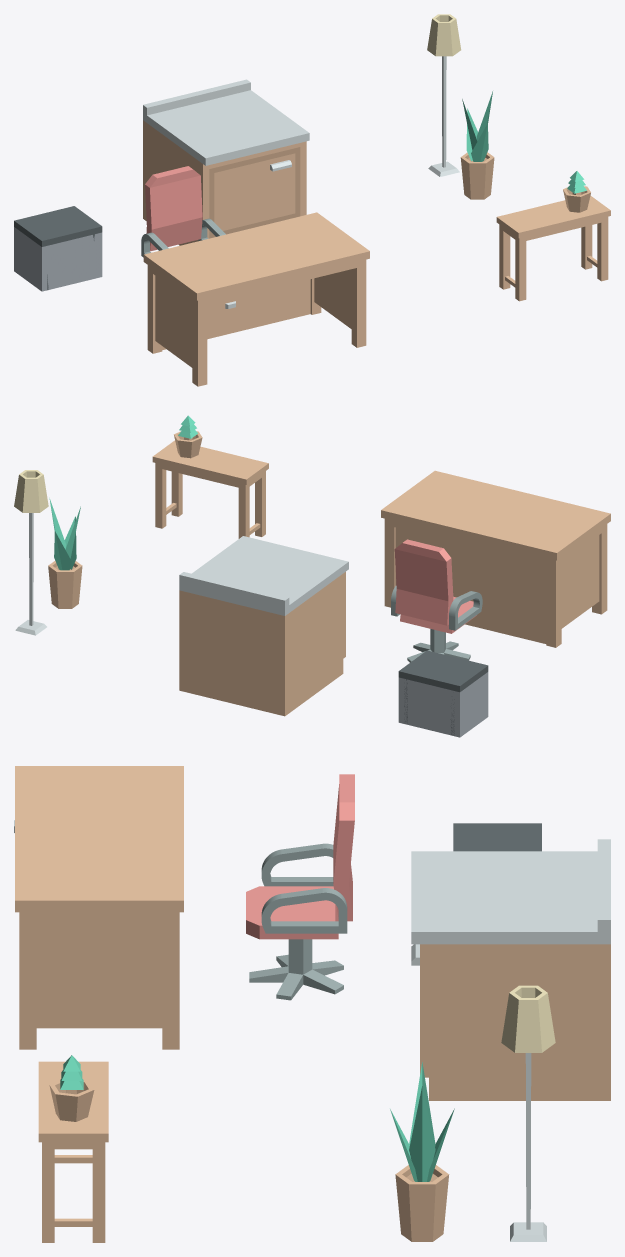
The picture shows the model from 3 angles, top to bottom: view 1: azimuth 30°, elevation 25°; view 2: azimuth 150°, elevation 25°; view 3: azimuth 270°, elevation 25°; orthographic projection. The views are drawn at different scales.
Parts seen in each view (by area): view 1: desk_blue__desk(Clone), cabinet_blue__kitchenCabinet(Clone), cabinet_blue__door, sidetable_brown__sideTable(Clone), deskchair_black__chair, crate_red__crate_red shell, crate_red__crate_red lid, lamp_white__lampRoundFloor(Clone), plant_pink__pottedPlant(Clone), plant_pink__plant, flowerpot_green__plantSmall1(Clone), desk_blue__drawer; view 2: desk_blue__desk(Clone), cabinet_blue__kitchenCabinet(Clone), deskchair_black__chair, sidetable_brown__sideTable(Clone), crate_red__crate_red shell, crate_red__crate_red lid, lamp_white__lampRoundFloor(Clone), plant_pink__pottedPlant(Clone), plant_pink__plant, flowerpot_green__plantSmall1(Clone), deskchair_black__chairDesk(Clone); view 3: cabinet_blue__kitchenCabinet(Clone), desk_blue__desk(Clone), deskchair_black__chair, sidetable_brown__sideTable(Clone), lamp_white__lampRoundFloor(Clone), plant_pink__pottedPlant(Clone), deskchair_black__chairDesk(Clone), crate_red__crate_red lid, plant_pink__plant, flowerpot_green__plantSmall1(Clone).
Part boxes in pixels (<box>): desk_blue__desk(Clone): <box>143,212,369,386</box>; cabinet_blue__kitchenCabinet(Clone): <box>143,79,309,245</box>; cabinet_blue__door: <box>209,147,300,238</box>; sidetable_brown__sideTable(Clone): <box>496,195,610,301</box>; deskchair_black__chair: <box>141,166,225,257</box>; crate_red__crate_red shell: <box>14,227,102,291</box>; crate_red__crate_red lid: <box>14,206,102,246</box>; lamp_white__lampRoundFloor(Clone): <box>427,14,461,176</box>; plant_pink__pottedPlant(Clone): <box>460,152,494,199</box>; plant_pink__plant: <box>462,91,492,161</box>; flowerpot_green__plantSmall1(Clone): <box>563,171,590,212</box>; desk_blue__drawer: <box>207,293,253,316</box>; desk_blue__desk(Clone): <box>381,470,610,647</box>; cabinet_blue__kitchenCabinet(Clone): <box>179,536,348,716</box>; deskchair_black__chair: <box>391,539,482,633</box>; sidetable_brown__sideTable(Clone): <box>152,440,268,538</box>; crate_red__crate_red shell: <box>398,672,488,737</box>; crate_red__crate_red lid: <box>398,650,488,692</box>; lamp_white__lampRoundFloor(Clone): <box>14,470,48,635</box>; plant_pink__pottedPlant(Clone): <box>48,561,82,608</box>; plant_pink__plant: <box>49,498,80,570</box>; flowerpot_green__plantSmall1(Clone): <box>174,415,202,458</box>; deskchair_black__chairDesk(Clone): <box>407,629,470,662</box>; cabinet_blue__kitchenCabinet(Clone): <box>411,839,610,1100</box>; desk_blue__desk(Clone): <box>15,766,183,1049</box>; deskchair_black__chair: <box>246,774,354,939</box>; sidetable_brown__sideTable(Clone): <box>38,1061,108,1242</box>; lamp_white__lampRoundFloor(Clone): <box>501,985,555,1241</box>; plant_pink__pottedPlant(Clone): <box>395,1165,449,1241</box>; deskchair_black__chairDesk(Clone): <box>249,939,343,1000</box>; crate_red__crate_red lid: <box>453,823,541,851</box>; plant_pink__plant: <box>390,1062,454,1181</box>; flowerpot_green__plantSmall1(Clone): <box>49,1055,94,1121</box>.
Size of the model in its own units: 3.65 by 1.2 by 2.69.
